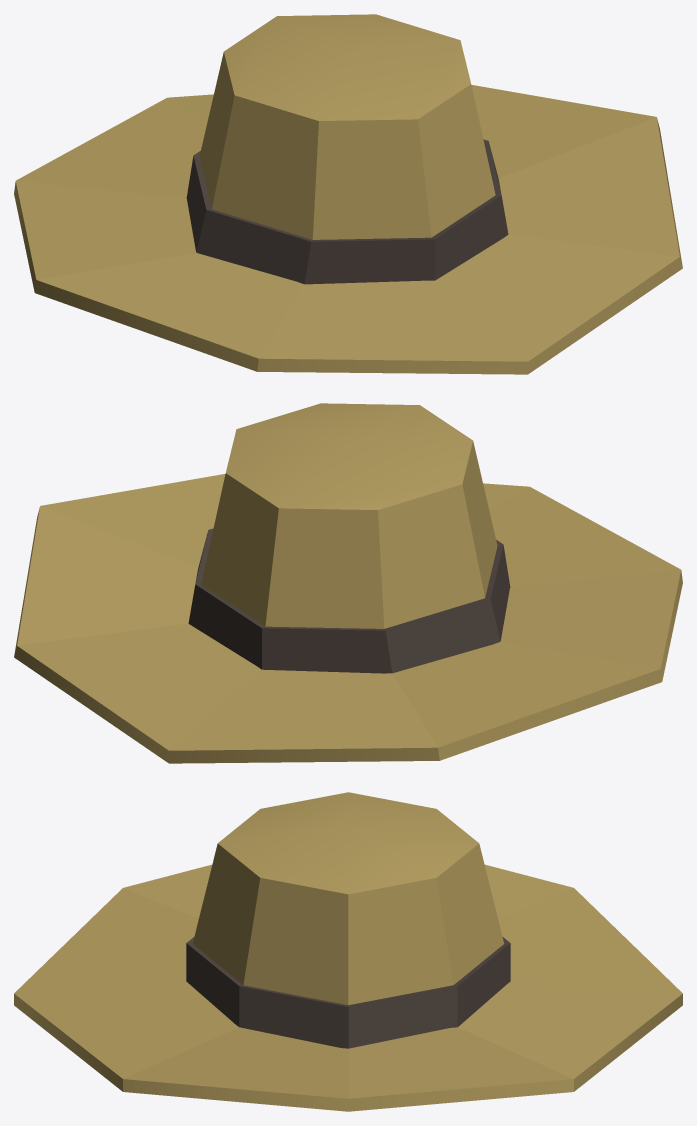
File: hat_Farmer.fbx
3 views of the same model, one above another, from view 1: azimuth 30°, elevation 25°; view 2: azimuth 150°, elevation 25°; view 3: azimuth 270°, elevation 25° (orthographic). The views are drawn at different scales.
Parts seen in each view (by area): view 1: pCube1; view 2: pCube1; view 3: pCube1.
Part boxes in pixels (box(x1,y1,x2,y2)): pCube1: box(14, 14, 682, 374); pCube1: box(14, 403, 682, 763); pCube1: box(14, 792, 682, 1111).
Bounding box in the file's own units: 54.23 × 16.04 × 54.21.
